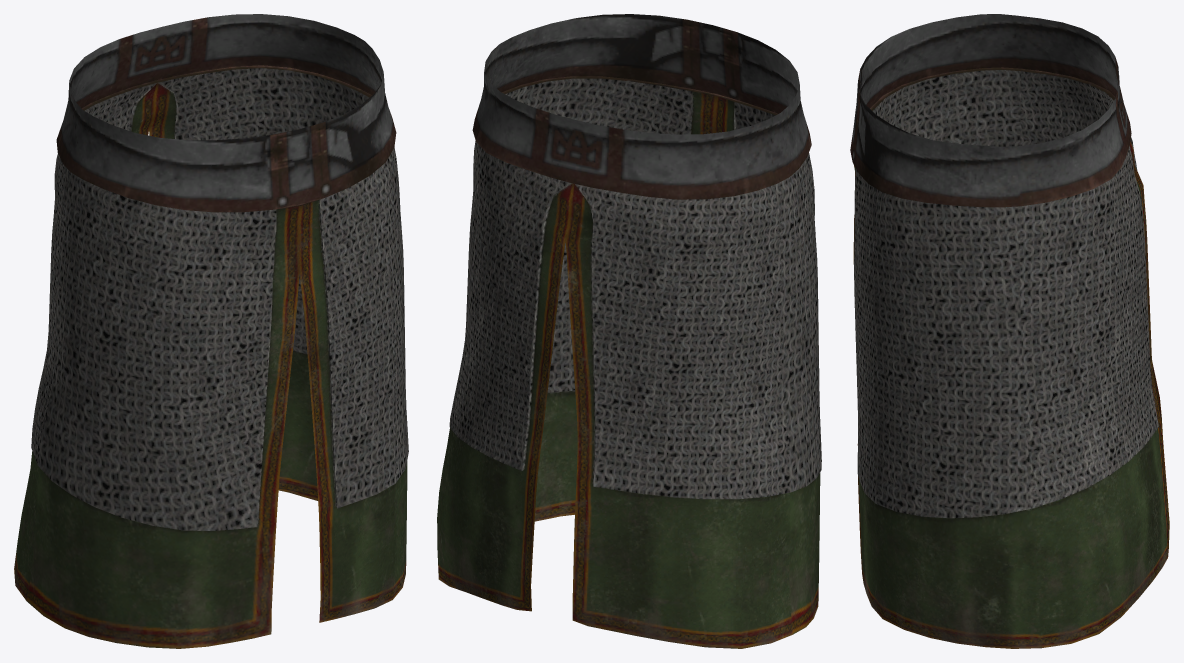
The model's file is clo_cts_rohan_armor_captain.fbx.
3 views of the same model, side by side, from view 1: azimuth 30°, elevation 25°; view 2: azimuth 150°, elevation 25°; view 3: azimuth 270°, elevation 25° (orthographic). The views are drawn at different scales.
Visible parts, largest first — view 1: clo_cts_rohan_armor_captain; view 2: clo_cts_rohan_armor_captain; view 3: clo_cts_rohan_armor_captain.
Part boxes in pixels (x1,y1,x2,y2): clo_cts_rohan_armor_captain: (14,14,408,648); clo_cts_rohan_armor_captain: (437,14,821,648); clo_cts_rohan_armor_captain: (850,14,1169,648).
Bounding box in the file's own units: 0.4745 × 0.3947 × 0.6713.
Materials: 1 (1 with a texture image).
